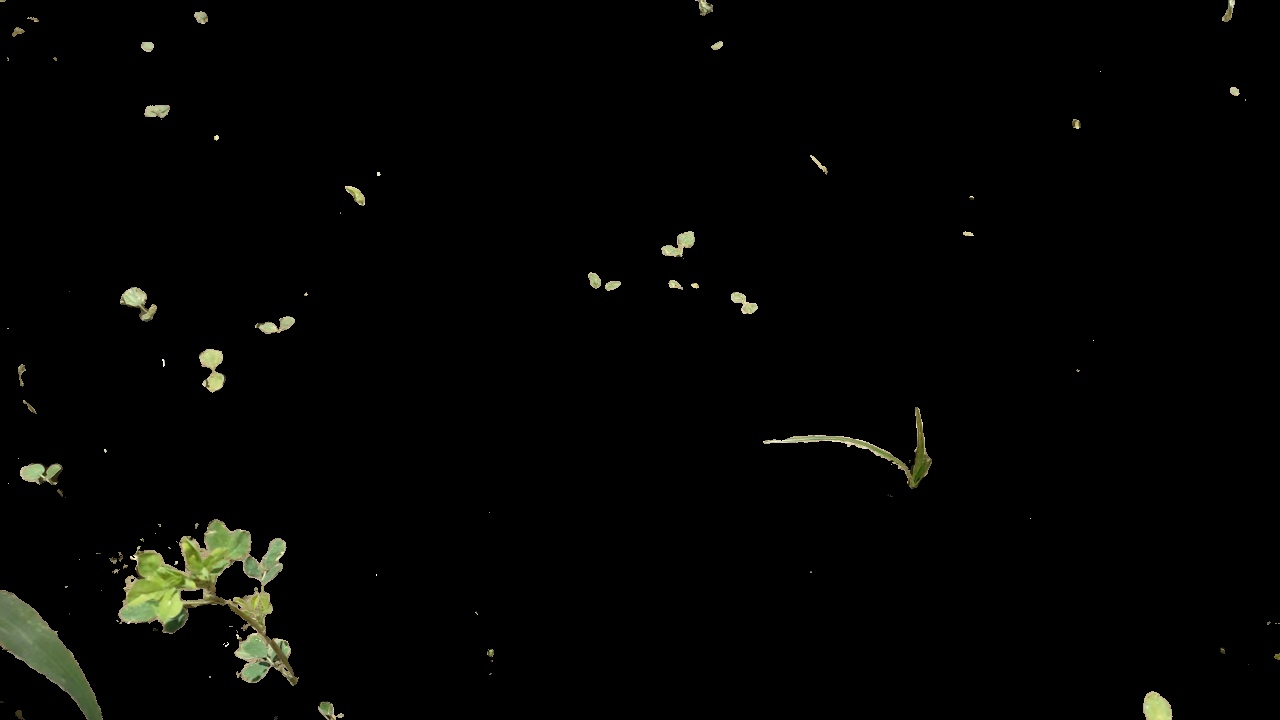weed: (108, 513, 317, 694), (760, 404, 940, 487), (191, 345, 236, 401), (17, 458, 74, 491), (115, 287, 159, 326), (583, 266, 626, 296), (726, 283, 762, 318), (1141, 686, 1177, 720), (658, 228, 699, 254), (250, 313, 295, 335), (342, 181, 372, 213), (145, 101, 176, 123)
